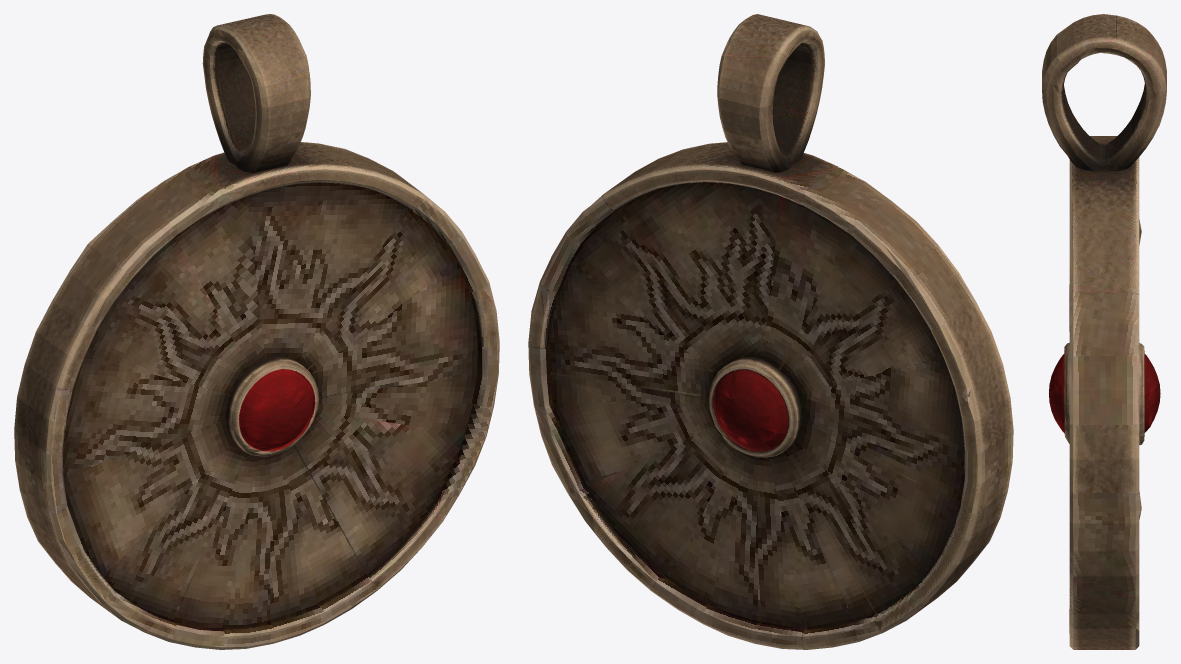
The model's file is ewm_talisman.glb.
3 renders of one model, left to right at view 1: azimuth 30°, elevation 25°; view 2: azimuth 150°, elevation 25°; view 3: azimuth 270°, elevation 25°, orthographic.
Parts seen in each view (by area): view 1: ewm_talisman; view 2: ewm_talisman; view 3: ewm_talisman.
Boxes of the visible parts, <box> form: ewm_talisman: <box>14,14,499,649</box>; ewm_talisman: <box>528,14,1013,649</box>; ewm_talisman: <box>1042,14,1166,649</box>.
Size of the model in its own units: 0.0663 by 0.085 by 0.016.
1 material, 1 textured.
